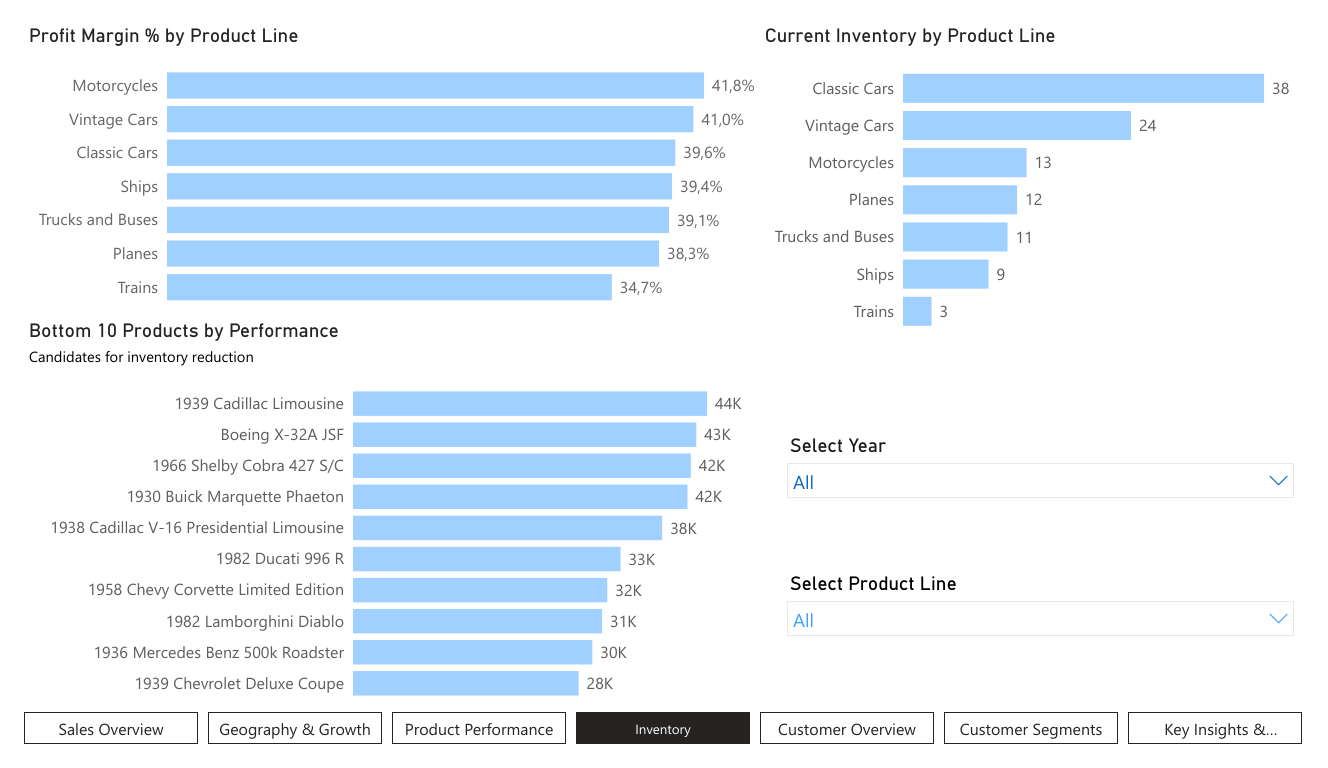

The page's visual inventory and layout, read from the dashboard file:
{"tool":"powerbi","page":{"name":"Inventory","canvas":[1280,720],"ordinal":3},"visuals":[{"type":"clusteredBarChart","title":"Profit Margin % by Product Line","fields":{"Category":["products.productLine"],"Y":["_Measures.Profit Margin %"]},"box":[0,0,735.5,295],"z":0},{"type":"barChart","title":"Current Inventory by Product Line","fields":{"Category":["products.productLine"],"Y":["_Measures.Total Products"]},"box":[735.5,0,535.2,322.5],"z":1000},{"type":"slicer","fields":{"Values":["products.productLine"]},"box":[0,543.4,290.9,89.2],"z":2000},{"type":"barChart","title":"Bottom 10 Products by Performance","fields":{"Y":["_Measures.Total Revenue"],"Category":["products.productName"]},"box":[0,295,735.5,393.8],"z":3000},{"type":"slicer","fields":{"Values":["DateTable.Year"]},"box":[753.5,405.3,526.8,76.5],"z":4000},{"type":"slicer","fields":{"Values":["products.productLine"]},"box":[753.5,543.3,526.8,93.1],"z":5000},{"type":"pageNavigator","box":[0,688.4,1280.3,31.6],"z":6000}]}

Visuals, with their boxes in screenshot pixels (x1, y1, x2, y2), scaled from the page's 1280x720 canvas onto the 1328x768 screenshot:
"Profit Margin % by Product Line" clusteredBarChart: 0:0:763:315
"Current Inventory by Product Line" barChart: 763:0:1318:344
slicer - products.productLine: 0:580:302:675
"Bottom 10 Products by Performance" barChart: 0:315:763:735
slicer - DateTable.Year: 782:432:1327:514
slicer - products.productLine: 782:580:1327:679
pageNavigator: 0:734:1327:767
